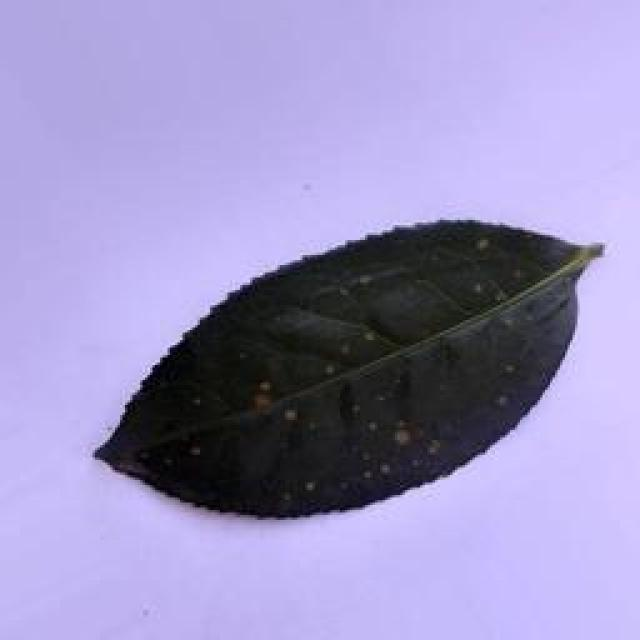Algal Leaf Spot: (89, 214, 614, 522)
